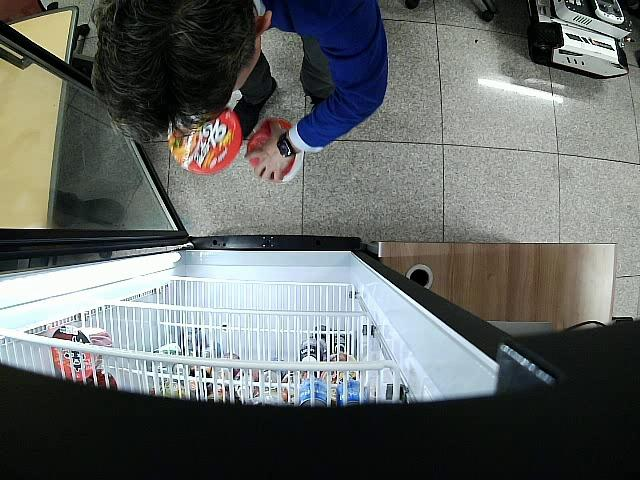00_hand: (244, 119, 285, 183)
10_wangTtukkeong: (168, 108, 242, 175), (247, 118, 304, 182)
